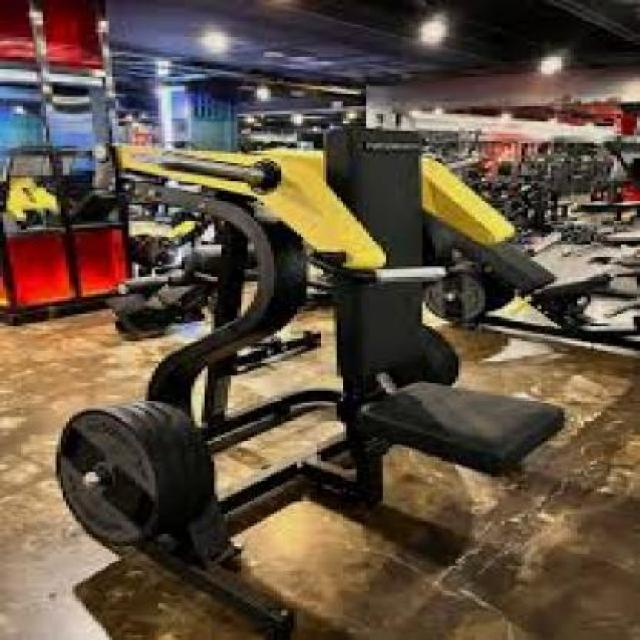shoulder press machine: (37, 91, 598, 640)
